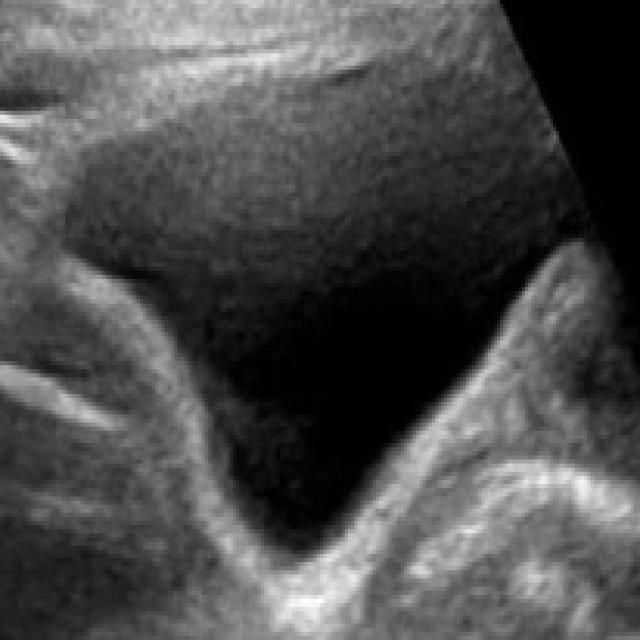bladder: (31, 5, 600, 606)
